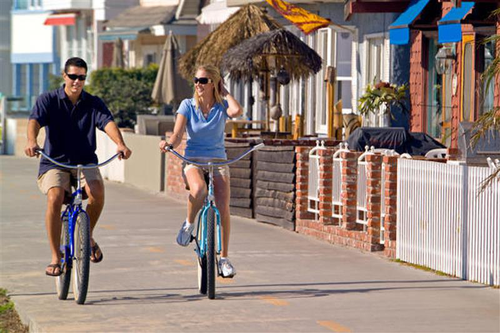bikerider: (14, 50, 137, 309), (157, 61, 272, 304)
